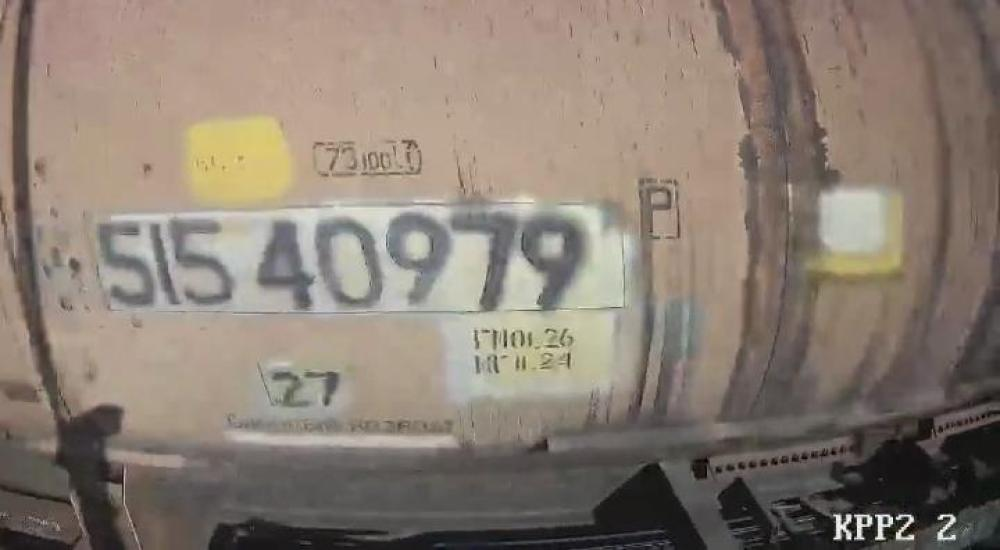Wagon-number: (90, 208, 602, 313)
